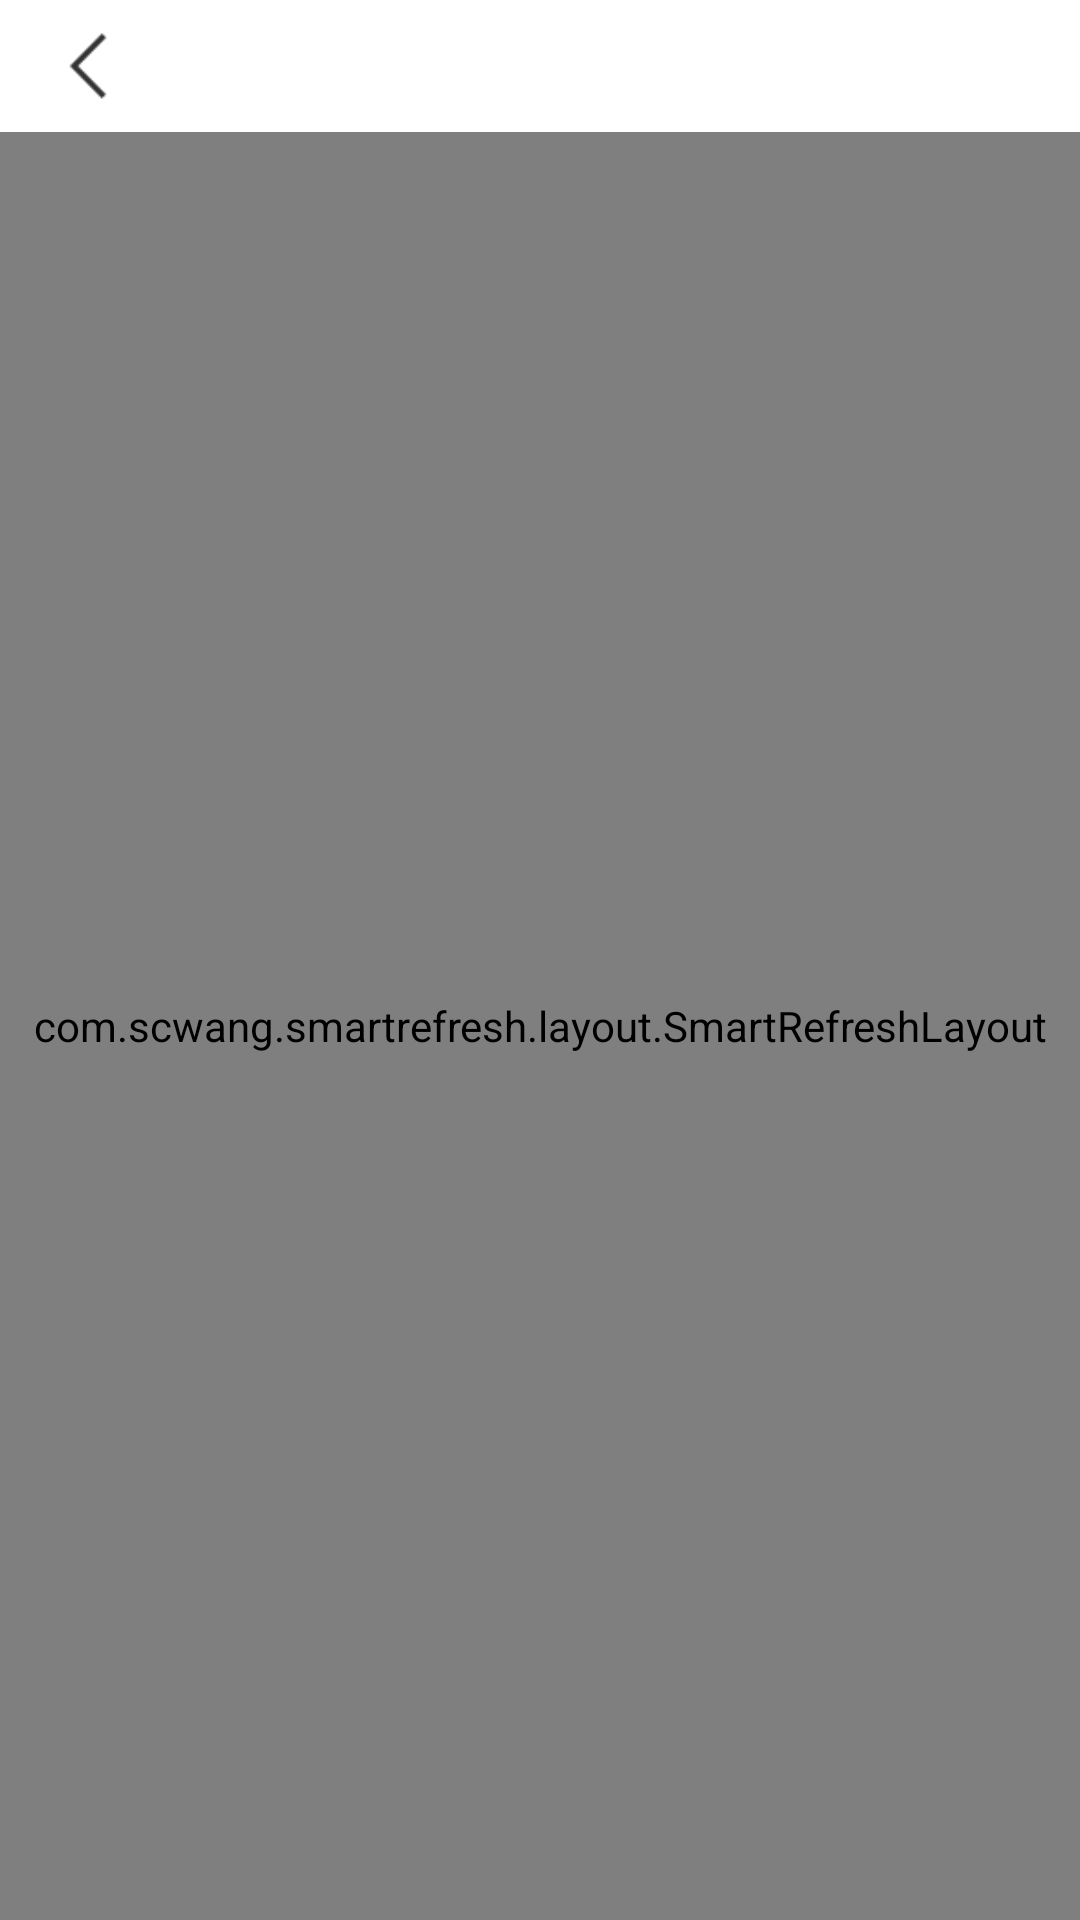

Icon bounding boxes for this 1080*1920 phone screenshot, format Rect(x1, y1, x2, y2):
back: Rect(70, 33, 107, 99)
